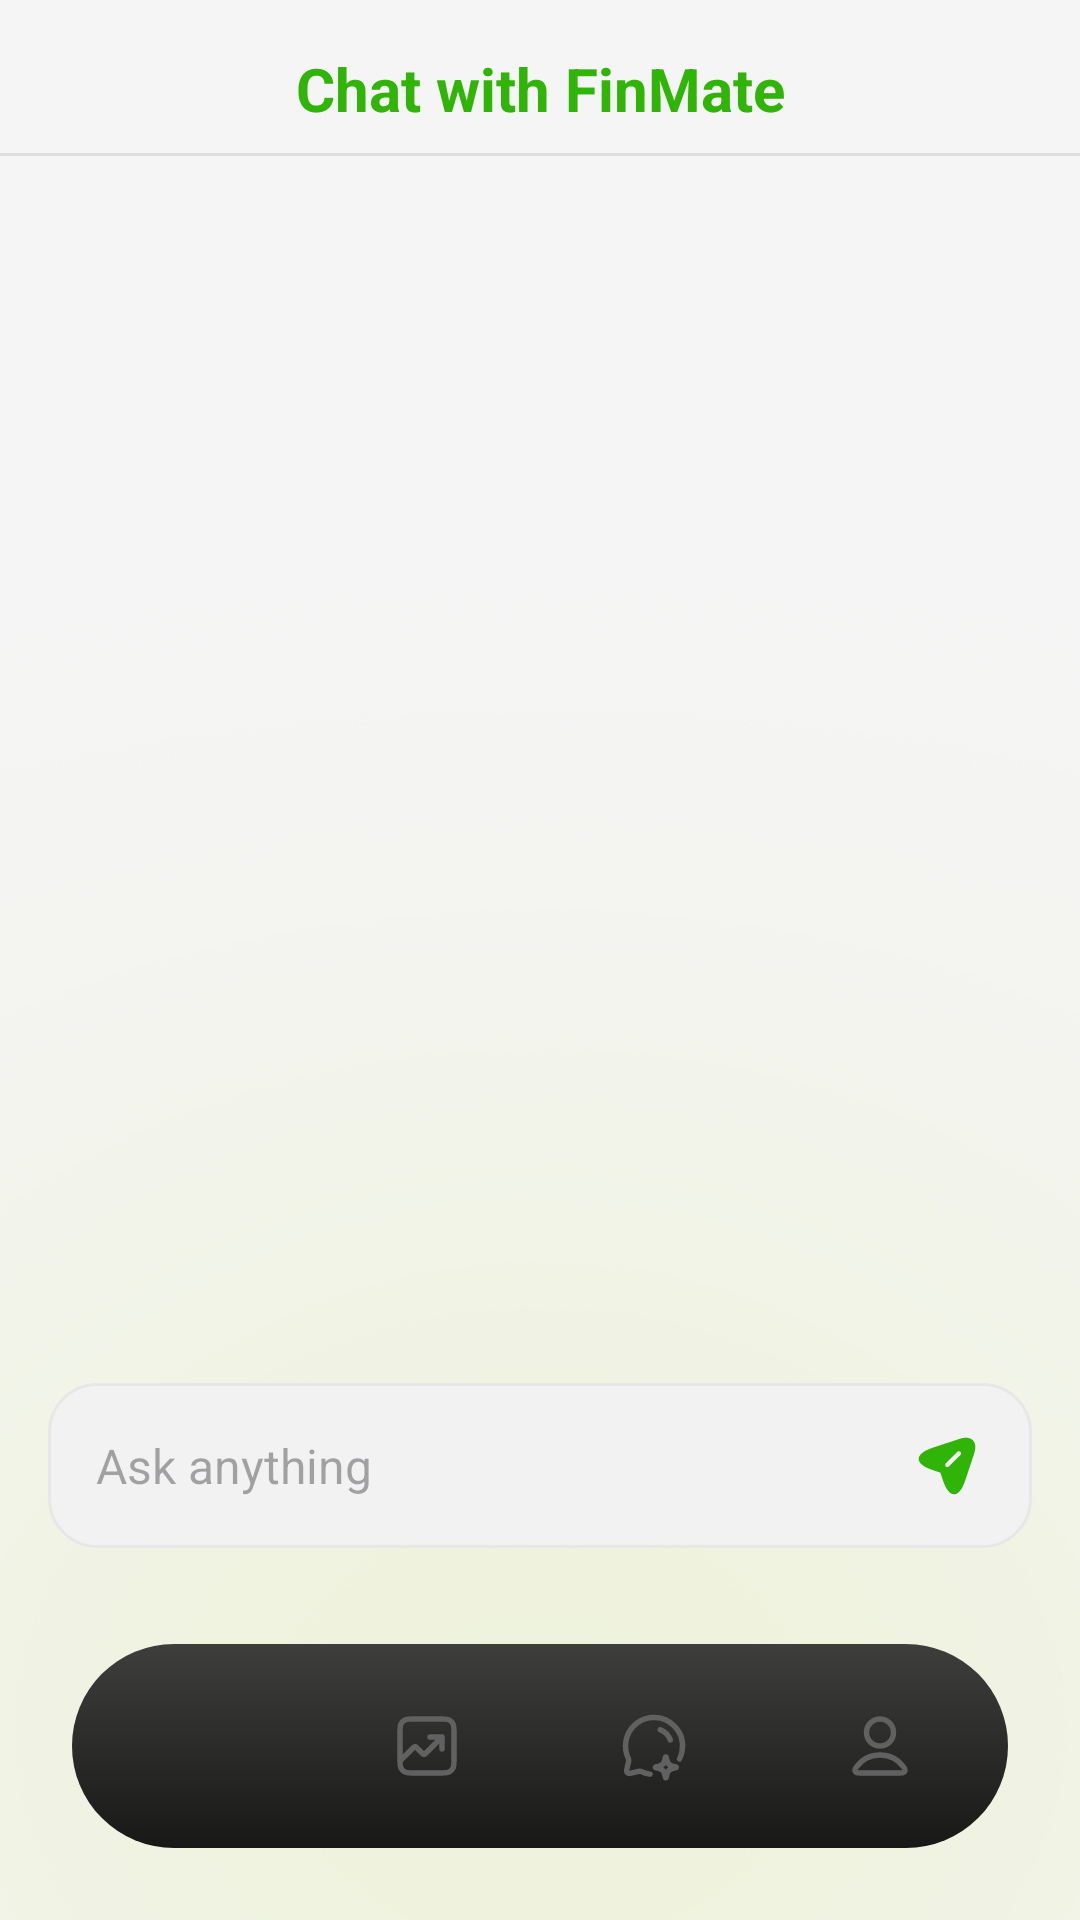

Where icons sit on this 1080×1920 app screen, as (x1, y1, x2, y2):
Send: (918, 1437, 976, 1495)
